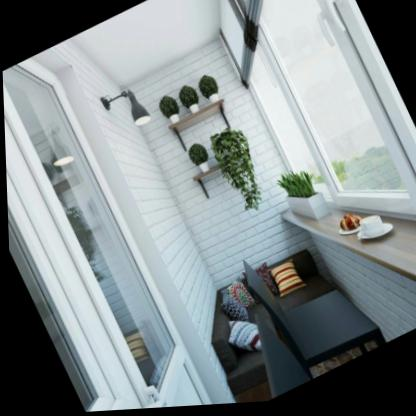Door: (2, 59, 211, 410)
Window: (258, 0, 405, 198), (246, 44, 331, 205)
